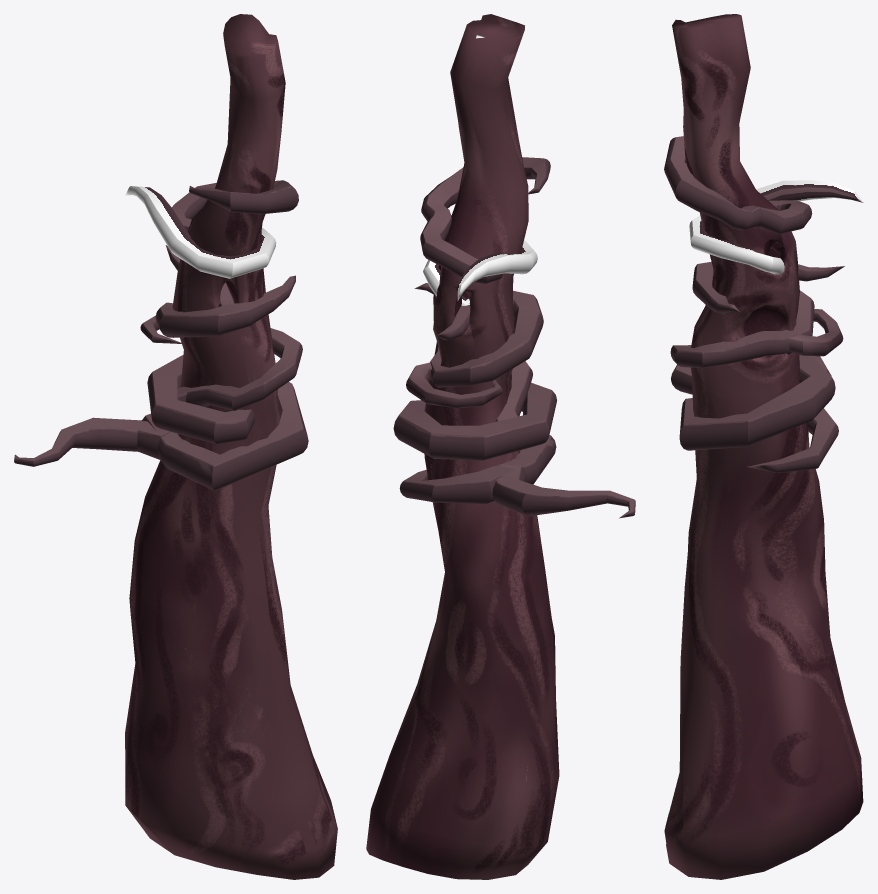
File: NIVEL1_LUCES_arbol.fbx
3 renders of one model, left to right at view 1: azimuth 30°, elevation 25°; view 2: azimuth 150°, elevation 25°; view 3: azimuth 270°, elevation 25°, orthographic. The views are drawn at different scales.
Visible parts, largest first — view 1: arbol, rama, rama.002, rama.005, rama.001, rama.006; view 2: arbol, rama, rama.002, rama.006, rama.001, rama.005, rama.003, rama.004; view 3: arbol, rama, rama.002, rama.006, rama.005, rama.003, rama.004.
Boxes of the visible parts, bbox=[...] form: arbol: bbox=[125, 14, 337, 879]; rama: bbox=[142, 354, 308, 490]; rama.002: bbox=[155, 275, 302, 410]; rama.005: bbox=[125, 186, 276, 278]; rama.001: bbox=[14, 417, 170, 466]; rama.006: bbox=[172, 180, 298, 231]; arbol: bbox=[366, 14, 559, 879]; rama: bbox=[393, 382, 556, 503]; rama.002: bbox=[414, 283, 543, 421]; rama.006: bbox=[420, 157, 550, 283]; rama.001: bbox=[492, 464, 635, 518]; rama.005: bbox=[423, 240, 537, 306]; rama.003: bbox=[406, 362, 502, 408]; rama.004: bbox=[437, 298, 513, 340]; arbol: bbox=[664, 14, 863, 879]; rama: bbox=[671, 355, 838, 473]; rama.002: bbox=[670, 261, 814, 368]; rama.006: bbox=[664, 136, 812, 234]; rama.005: bbox=[689, 180, 863, 274]; rama.003: bbox=[788, 309, 843, 356]; rama.004: bbox=[710, 264, 844, 281].
Size of the model in its own units: 1490 by 4284 by 937.
